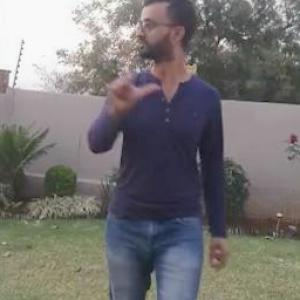land_hand: (98, 50, 160, 114)
